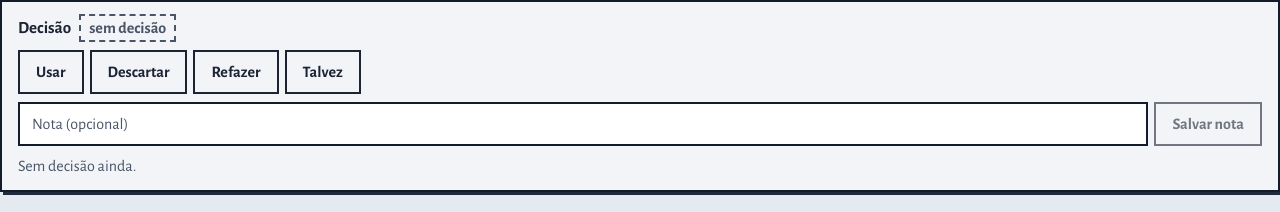
Test case: DecisaoAsset › keeps the note and shows the server message when saving fails
Expected: the text "Sem decisão ainda." is shown, [18,158,136,174]
Expected: the button "Salvar nota" is disabled, [1154,102,1262,146]
Type "texto" into the field.
click(583, 124); type("texto")  # box [18,102,1148,146]
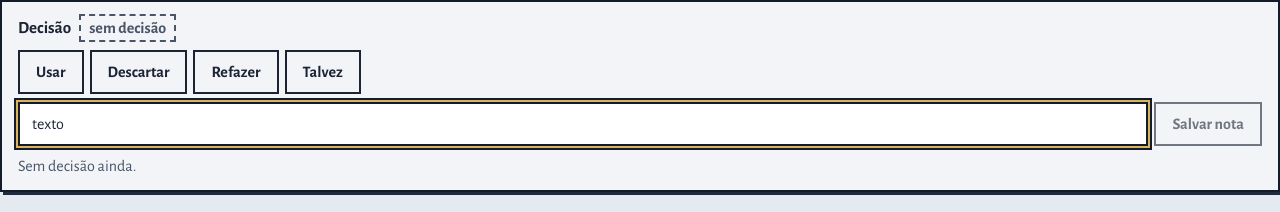
Click the button "Usar".
click(51, 72)  # box [18,50,84,94]
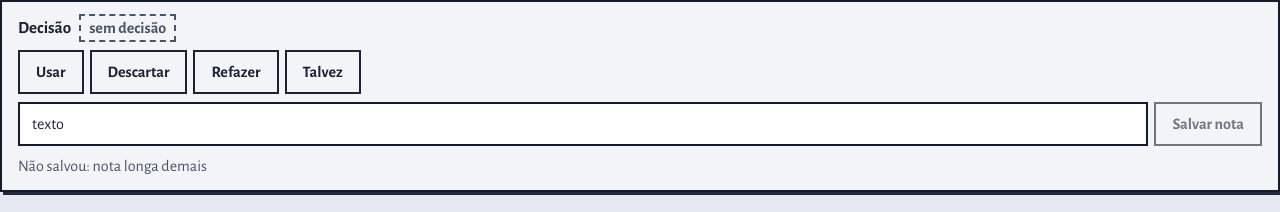
Result: the text "Não salvou: nota longa demais" is shown at [18,158,207,174]
